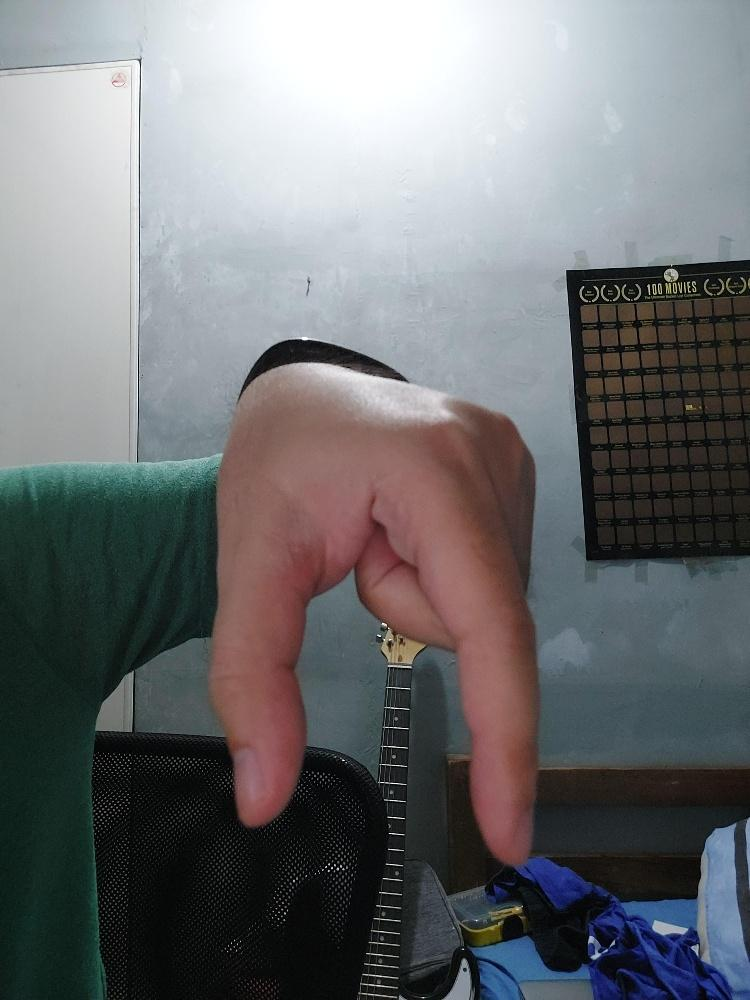q: (208, 328, 539, 868)
